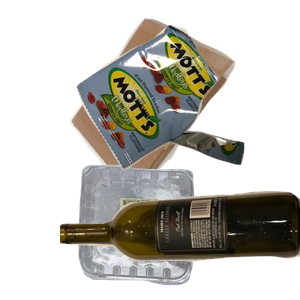cardboard: (67, 16, 295, 196)
glass: (60, 189, 300, 300)
plastic: (76, 162, 264, 300)
trash: (74, 22, 300, 185)
